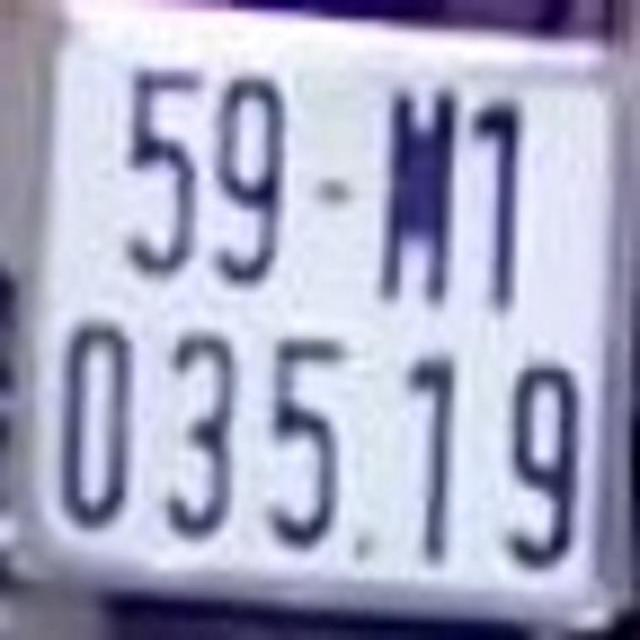0: (61, 320, 130, 530)
1: (405, 356, 463, 575), (475, 108, 528, 311)
3: (171, 330, 237, 540)
5: (270, 335, 340, 538), (133, 88, 199, 267)
9: (502, 361, 592, 568), (222, 74, 286, 288)
M: (388, 96, 453, 310)
